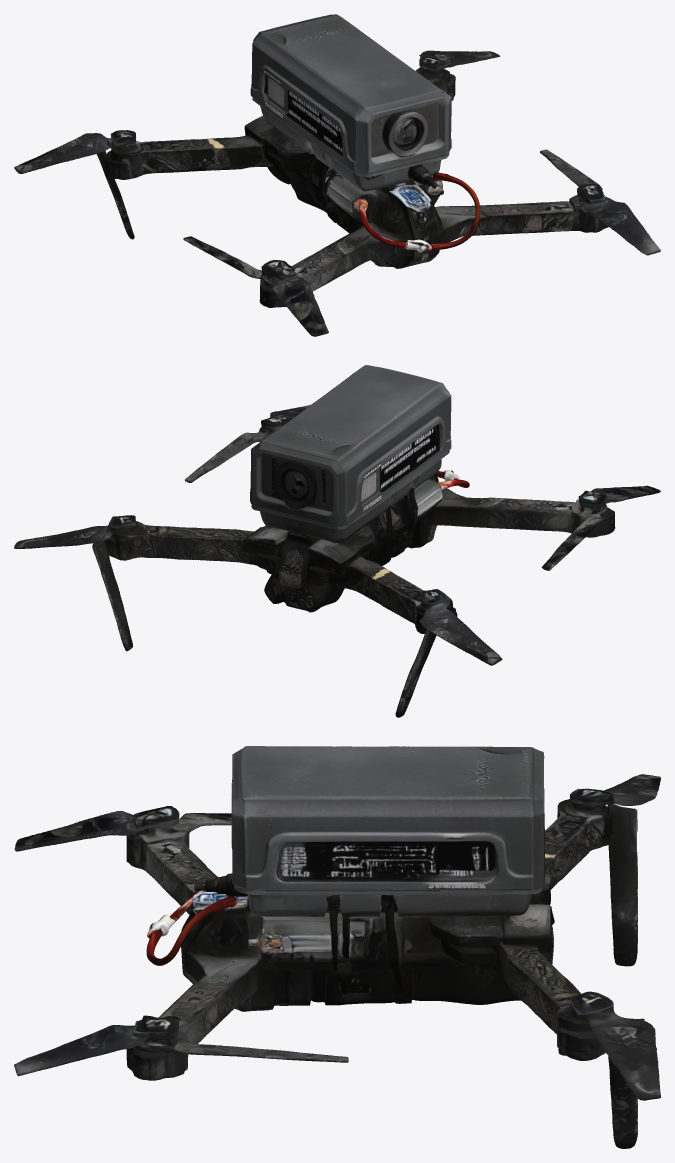
The model's file is drone-pbr.glb.
3 views of the same model, one above another, from view 1: azimuth 30°, elevation 25°; view 2: azimuth 150°, elevation 25°; view 3: azimuth 270°, elevation 25° (orthographic). The views are drawn at different scales.
Visible parts, largest first — view 1: model; view 2: model; view 3: model.
Boxes of the visible parts, <box> form: model: <box>14,14,660,336</box>; model: <box>14,365,660,717</box>; model: <box>14,746,660,1148</box>.
Bounding box in the file's own units: 1.87 × 0.7704 × 1.58.
Materials: 1 (1 with a texture image).
